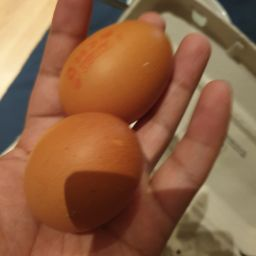Eggs: (13, 107, 162, 238), (41, 15, 186, 123)
